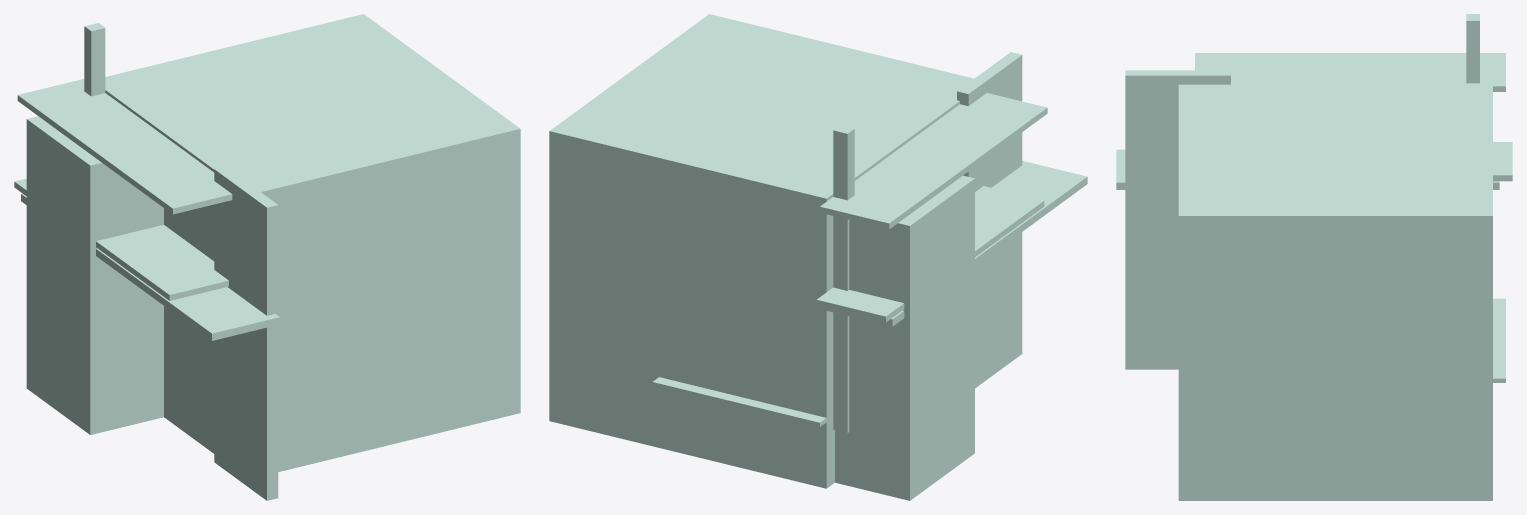
3 views of the same model, side by side, from view 1: azimuth 30°, elevation 25°; view 2: azimuth 150°, elevation 25°; view 3: azimuth 270°, elevation 25° (orthographic). The views are drawn at different scales.
Visible parts, largest first — view 1: Renderer Node; view 2: Renderer Node; view 3: Renderer Node.
Boxes of the visible parts, bbox=[...] form: Renderer Node: bbox=[14, 14, 520, 500]; Renderer Node: bbox=[549, 14, 1087, 500]; Renderer Node: bbox=[1116, 14, 1512, 500].
Size of the model in its own units: 0.9531 by 0.9141 by 0.9453.
